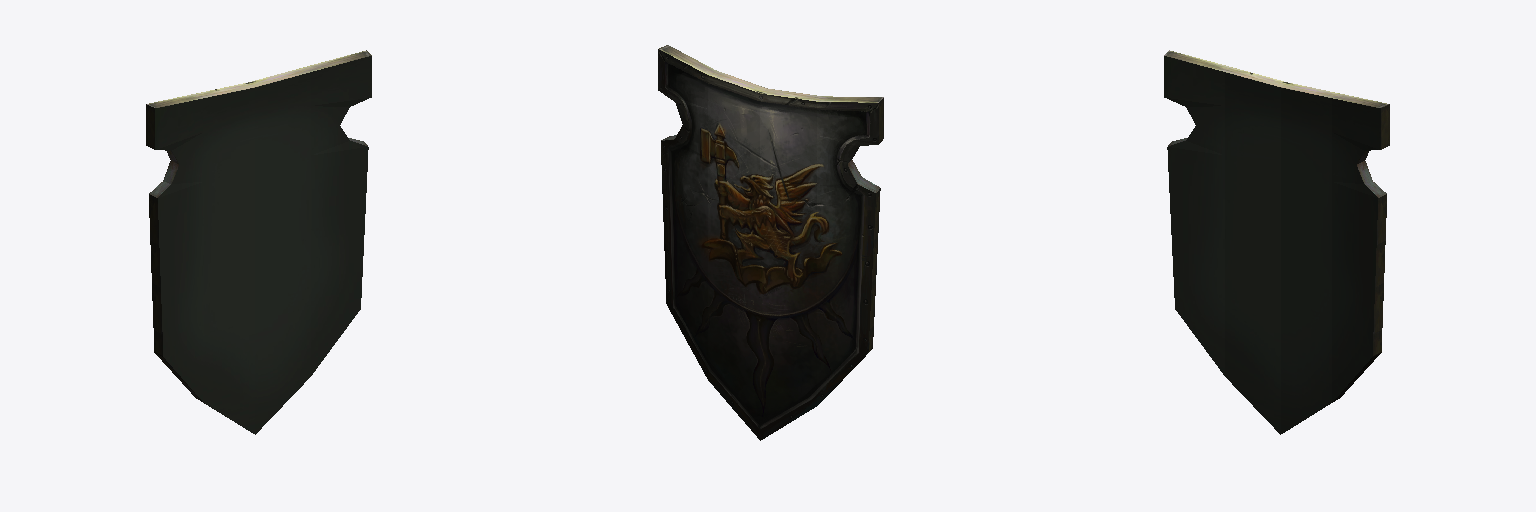
3 renders of one model, left to right at view 1: azimuth 30°, elevation 25°; view 2: azimuth 150°, elevation 25°; view 3: azimuth 330°, elevation 25°, orthographic.
Visible parts, largest first — view 1: dunpai; view 2: dunpai; view 3: dunpai.
Part boxes in pixels (left/top/right/bottom): dunpai: left=146, top=50, right=371, bottom=434; dunpai: left=658, top=45, right=883, bottom=440; dunpai: left=1164, top=50, right=1389, bottom=434.
Bounding box in the file's own units: 0.3862 × 0.6 × 0.046.
Materials: 1 (1 with a texture image).